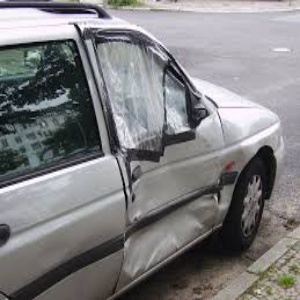door: (84, 157, 222, 271)
